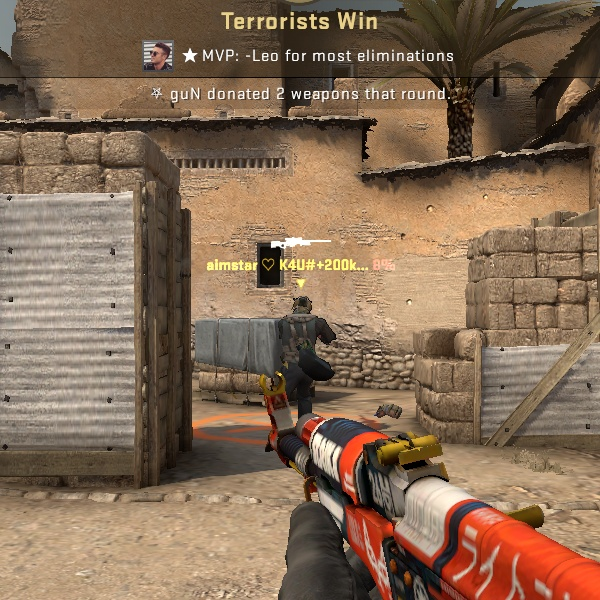t_body: (245, 289, 342, 473)
t_head: (284, 290, 319, 322)
